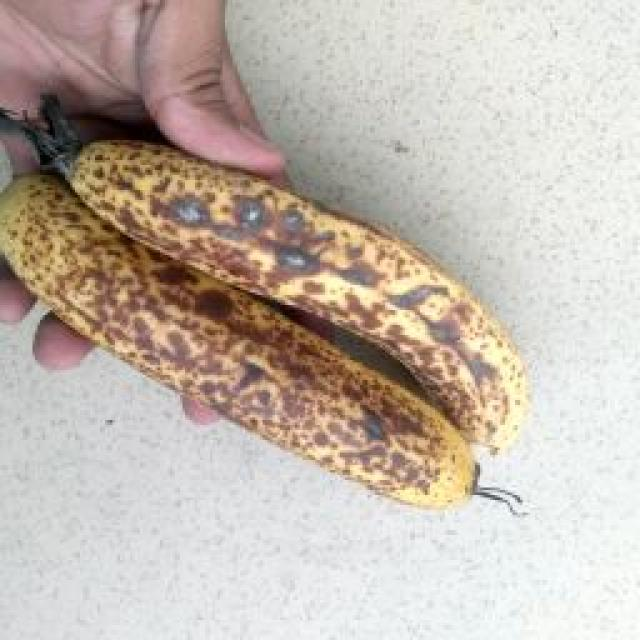banana: (171, 132, 565, 590)
